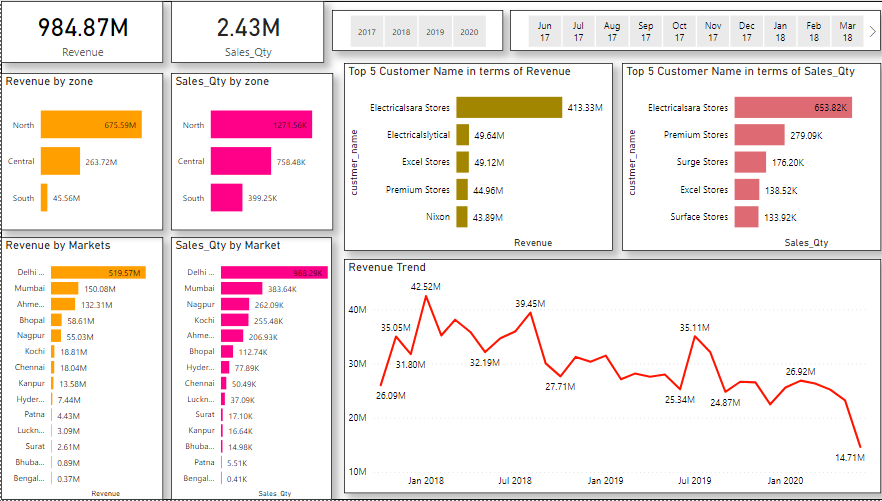

This screenshot's page, from the dashboard's own definition file:
{"tool":"powerbi","page":{"name":"Dashboard","canvas":[1280,720],"ordinal":0},"visuals":[{"type":"card","fields":{"Values":["Imp Measures.Revenue"]},"box":[0,0,233.7,89.5],"z":0},{"type":"card","fields":{"Values":["Imp Measures.Sales_Qty"]},"box":[245.3,0,220.8,89.5],"z":1000},{"type":"barChart","title":"Revenue by Markets","fields":{"Y":["Imp Measures.Revenue"],"Category":["DimMarkets.markets_name"]},"box":[0,340.5,233.7,379.5],"z":2000},{"type":"barChart","title":"Sales_Qty by Market","fields":{"Y":["Imp Measures.Sales_Qty"],"Category":["DimMarkets.markets_name"]},"box":[245.3,340.5,232.3,379.5],"z":3000},{"type":"slicer","fields":{"Values":["DimDate.year"]},"box":[477.6,13,246.7,59.2],"z":4000},{"type":"slicer","fields":{"Values":["DimDate.cy_date"]},"box":[734.4,13,535.3,59.2],"z":5000},{"type":"barChart","title":"Top 5 Customer Name in terms of Revenue","fields":{"Category":["DimCustomers.custmer_name"],"Y":["Imp Measures.Revenue"]},"box":[494.9,89.5,388.1,271.3],"z":6000},{"type":"barChart","title":"Top 5 Customer Name in terms of Sales_Qty","fields":{"Category":["DimCustomers.custmer_name"],"Y":["Imp Measures.Sales_Qty"]},"box":[896,89.5,373.7,271.3],"z":7000},{"type":"lineChart","title":"Revenue Trend","fields":{"Y":["Imp Measures.Revenue"],"Category":["DimDate.date.Variation.Date Hierarchy.Year","DimDate.date.Variation.Date Hierarchy.Quarter","DimDate.date.Variation.Date Hierarchy.Month","DimDate.date.Variation.Date Hierarchy.Day"]},"box":[494.9,372.3,774.8,337.6],"z":8000},{"type":"barChart","fields":{"Category":["DimMarkets.zone"],"Y":["Imp Measures.Revenue"]},"box":[0,103.9,233.7,226.5],"z":8001},{"type":"barChart","fields":{"Category":["DimMarkets.zone"],"Y":["Imp Measures.Sales_Qty"]},"box":[245.3,103.9,233.7,226.5],"z":8002}]}

Visuals, with their boxes in screenshot pixels (x1, y1, x2, y2), scaled from the page's 1280x720 canvas onto the 882x501 screenshot:
card - Imp Measures.Revenue: pyautogui.locateOnScreen(0, 0, 161, 62)
card - Imp Measures.Sales_Qty: pyautogui.locateOnScreen(169, 0, 321, 62)
"Revenue by Markets" barChart: pyautogui.locateOnScreen(0, 237, 161, 500)
"Sales_Qty by Market" barChart: pyautogui.locateOnScreen(169, 237, 329, 500)
slicer - DimDate.year: pyautogui.locateOnScreen(329, 9, 499, 50)
slicer - DimDate.cy_date: pyautogui.locateOnScreen(506, 9, 875, 50)
"Top 5 Customer Name in terms of Revenue" barChart: pyautogui.locateOnScreen(341, 62, 608, 251)
"Top 5 Customer Name in terms of Sales_Qty" barChart: pyautogui.locateOnScreen(617, 62, 875, 251)
"Revenue Trend" lineChart: pyautogui.locateOnScreen(341, 259, 875, 494)
barChart - DimMarkets.zone x Imp Measures.Revenue: pyautogui.locateOnScreen(0, 72, 161, 230)
barChart - DimMarkets.zone x Imp Measures.Sales_Qty: pyautogui.locateOnScreen(169, 72, 330, 230)
